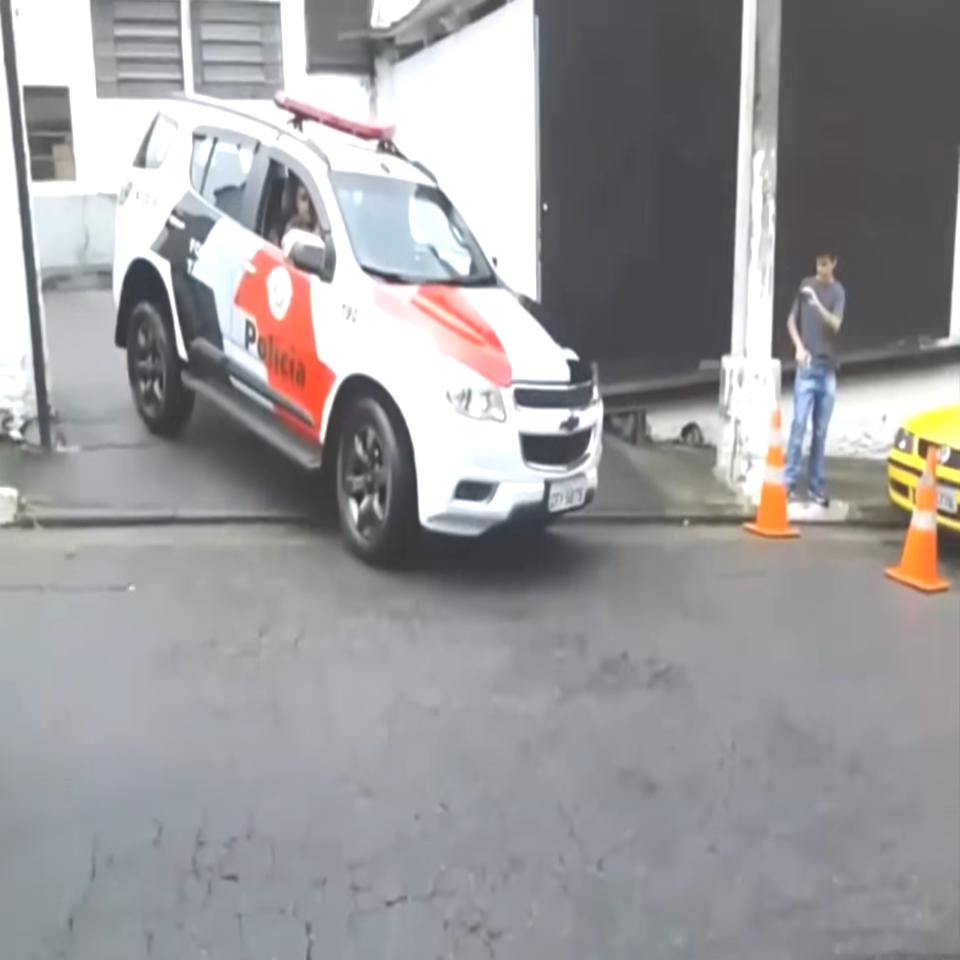viatura: (109, 76, 608, 575)
